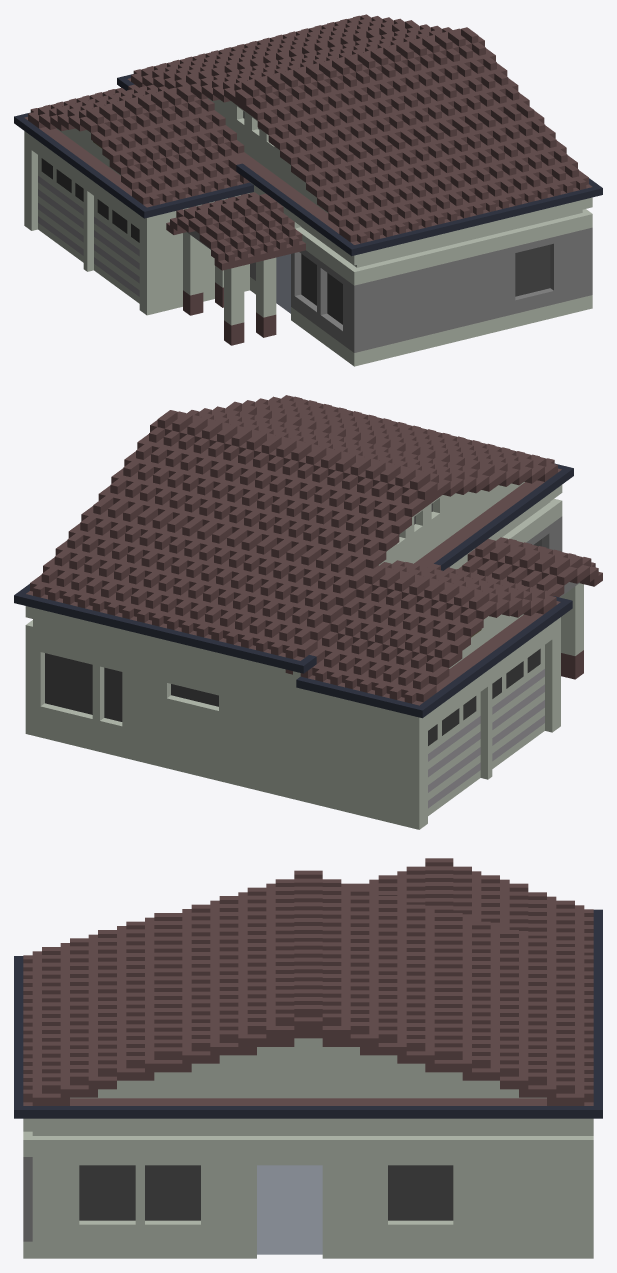
The model's file is Buildings Final For Import-3.obj.
3 views of the same model, one above another, from view 1: azimuth 30°, elevation 25°; view 2: azimuth 150°, elevation 25°; view 3: azimuth 270°, elevation 25° (orthographic). The views are drawn at different scales.
Bounding box in the file's own units: 5.5 × 2.9 × 6.3.
Materials: 1 (1 with a texture image).
